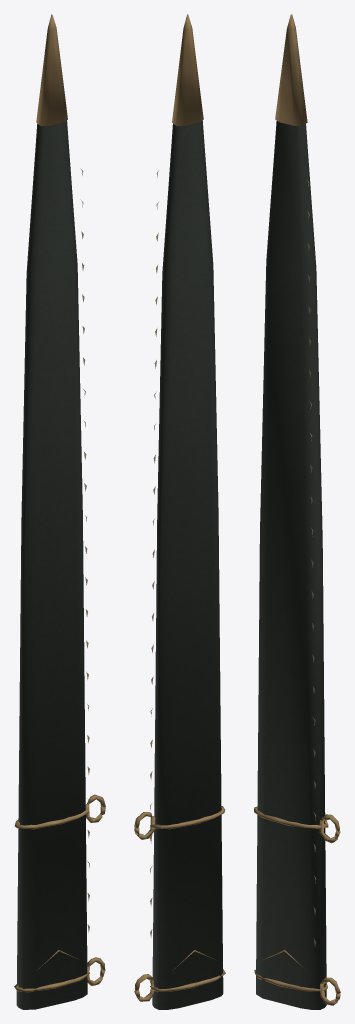
File: scabbard_lod2.glb
The picture shows the model from 3 angles, left to right: view 1: azimuth 30°, elevation 25°; view 2: azimuth 210°, elevation 25°; view 3: azimuth 330°, elevation 25°; orthographic projection.
Visible parts, largest first — view 1: ScabbardMesh_LOD2; view 2: ScabbardMesh_LOD2; view 3: ScabbardMesh_LOD2.
Boxes of the visible parts, x1=… form: ScabbardMesh_LOD2: x1=14, y1=14, x2=105, y2=1009; ScabbardMesh_LOD2: x1=134, y1=14, x2=225, y2=1009; ScabbardMesh_LOD2: x1=254, y1=14, x2=340, y2=1009.
Bounding box in the file's own units: 0.0936 × 0.999 × 0.03.
Materials: 3 (2 with a texture image).
